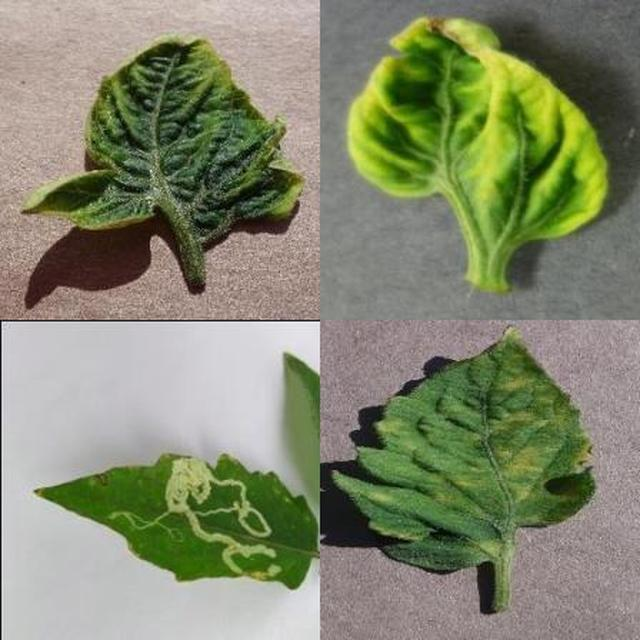Yellow Leaf Curl Virus: (234, 184, 640, 640)
